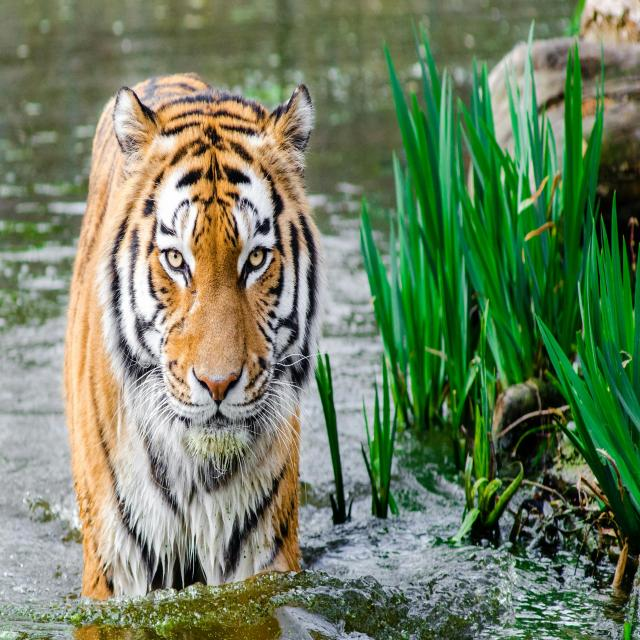Tiger: (66, 67, 327, 589)
